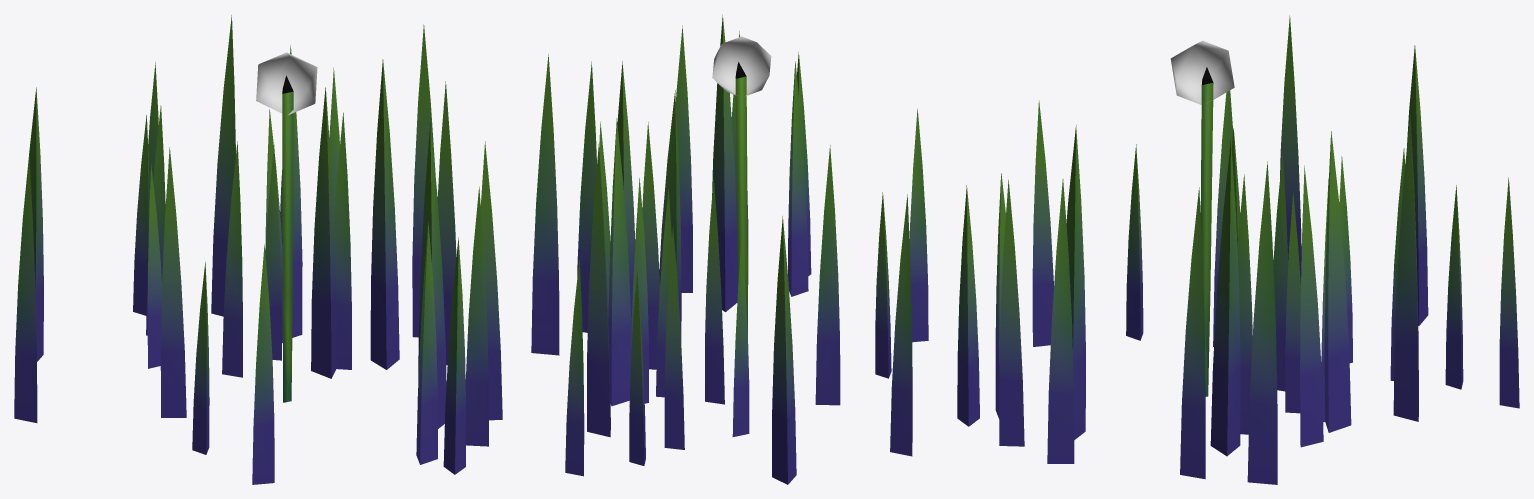
Rendered from grass_big.glb.
3 renders of one model, left to right at view 1: azimuth 30°, elevation 25°; view 2: azimuth 150°, elevation 25°; view 3: azimuth 270°, elevation 25°, orthographic. The views are drawn at different scales.
Parts seen in each view (by area): view 1: Grass.020; view 2: Grass.020; view 3: Grass.020.
Boxes of the visible parts, <box> form: Grass.020: <box>14,15,502,484</box>; Grass.020: <box>531,14,928,484</box>; Grass.020: <box>957,15,1519,484</box>.
Bounding box in the file's own units: 0.1929 × 0.158 × 0.2261.
